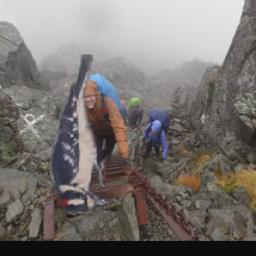Woodpecker: (49, 54, 111, 216)
